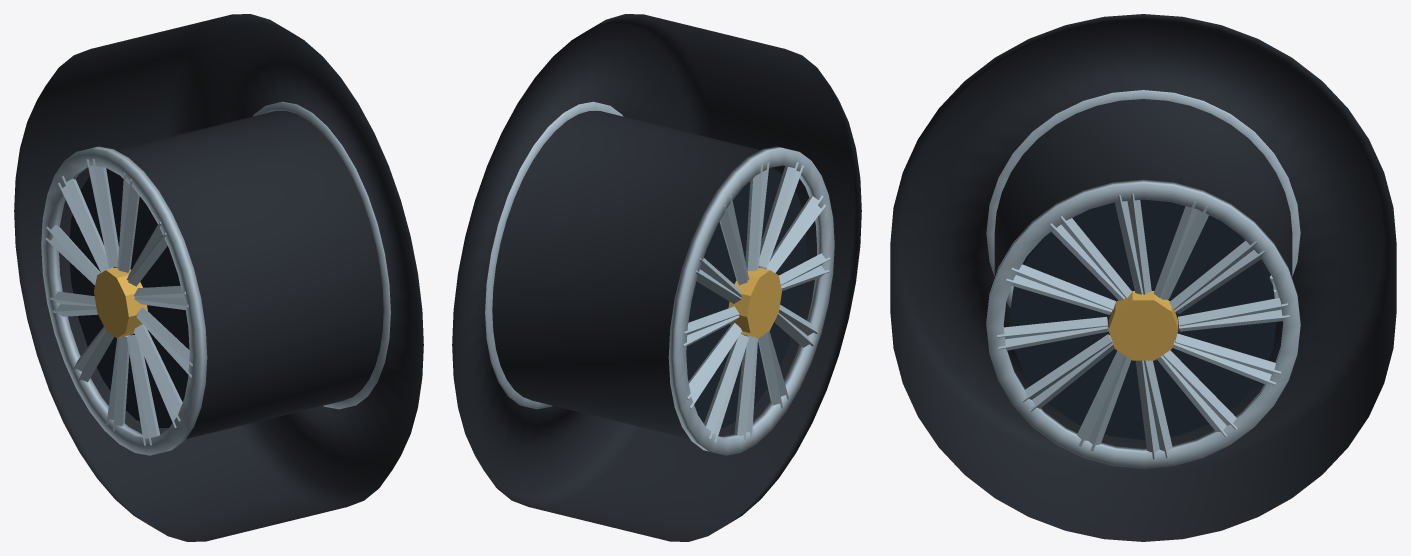
The picture shows the model from 3 angles, left to right: view 1: azimuth 30°, elevation 25°; view 2: azimuth 150°, elevation 25°; view 3: azimuth 270°, elevation 25°; orthographic projection.
Visible parts, largest first — view 1: Wheel; view 2: Wheel; view 3: Wheel.
Boxes of the visible parts, <box> form: Wheel: <box>14,14,423,541</box>; Wheel: <box>452,14,861,541</box>; Wheel: <box>890,14,1396,541</box>.
Bounding box in the file's own units: 0.334 × 0.68 × 0.68.
